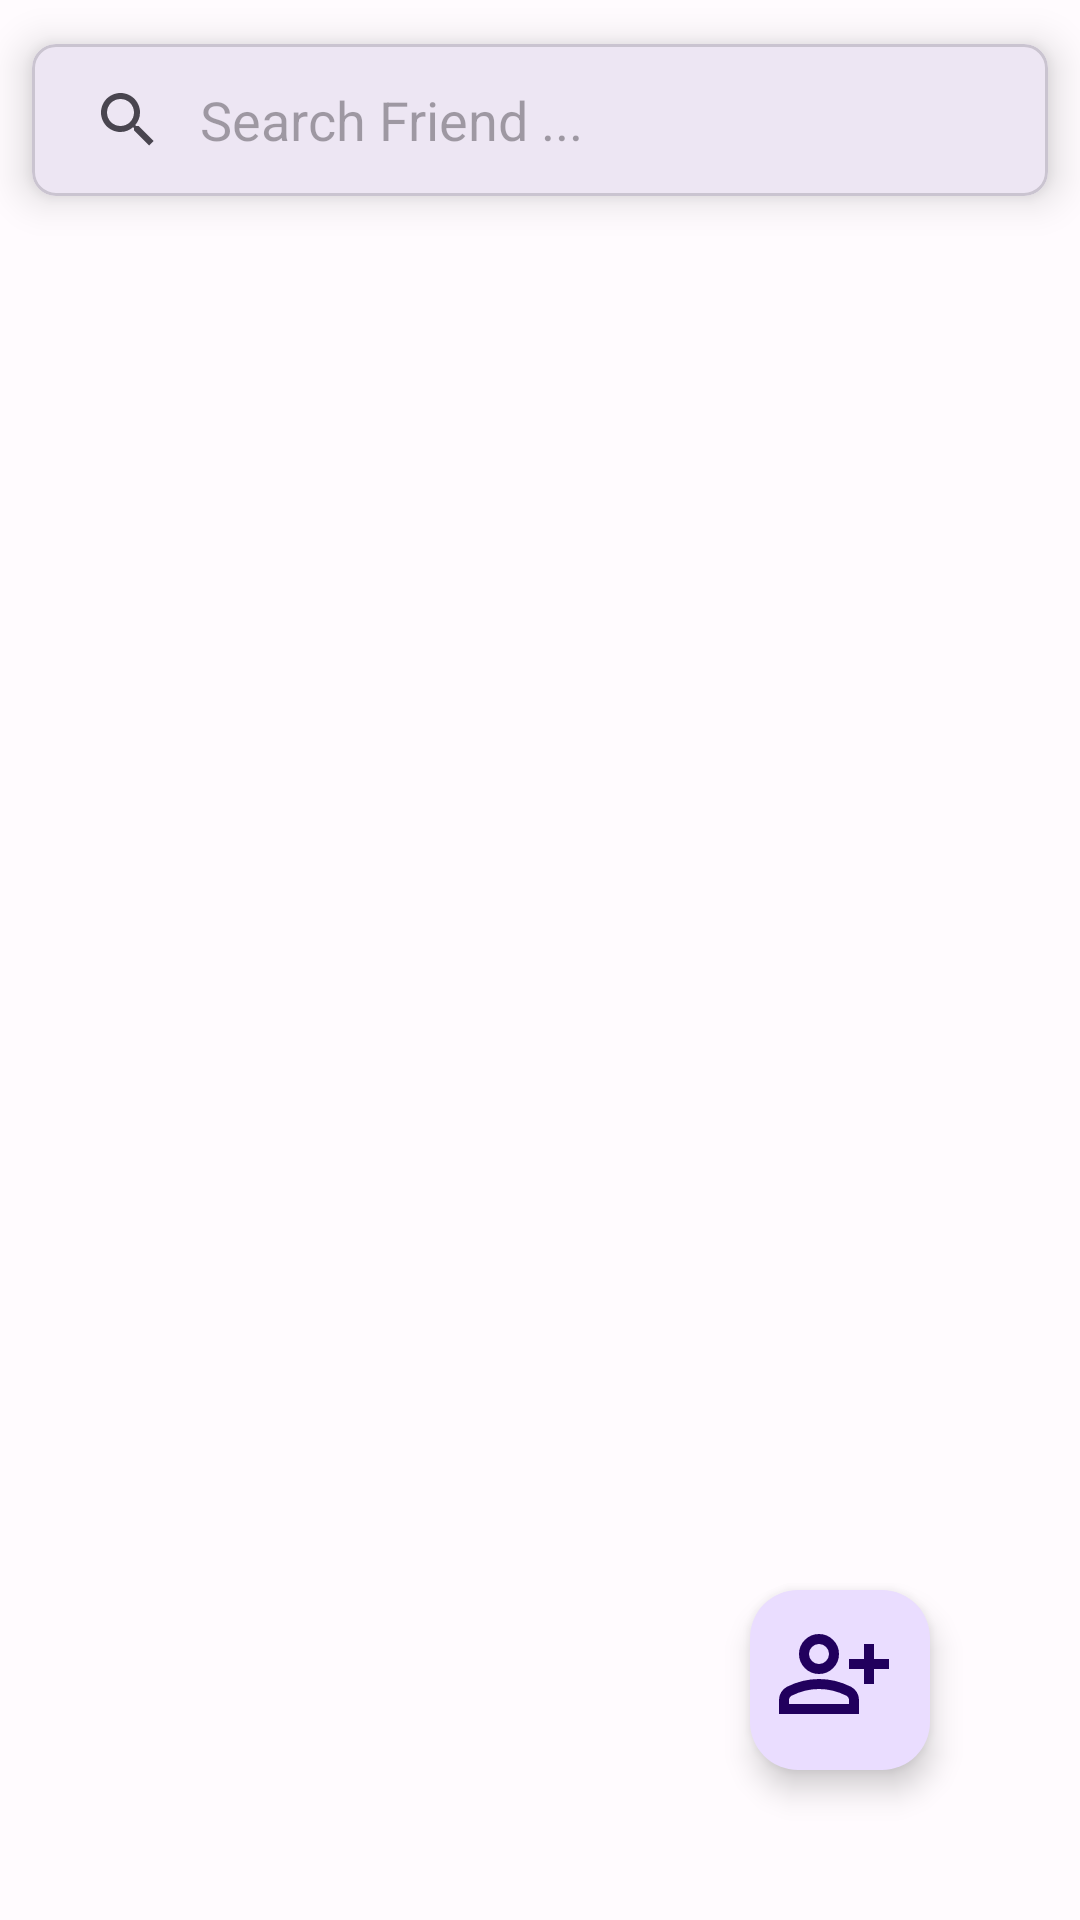

Icon click points for this 1080px x 1920px phone screenshot, format (x=x, y=y):
add friend: (x=840, y=1680)
